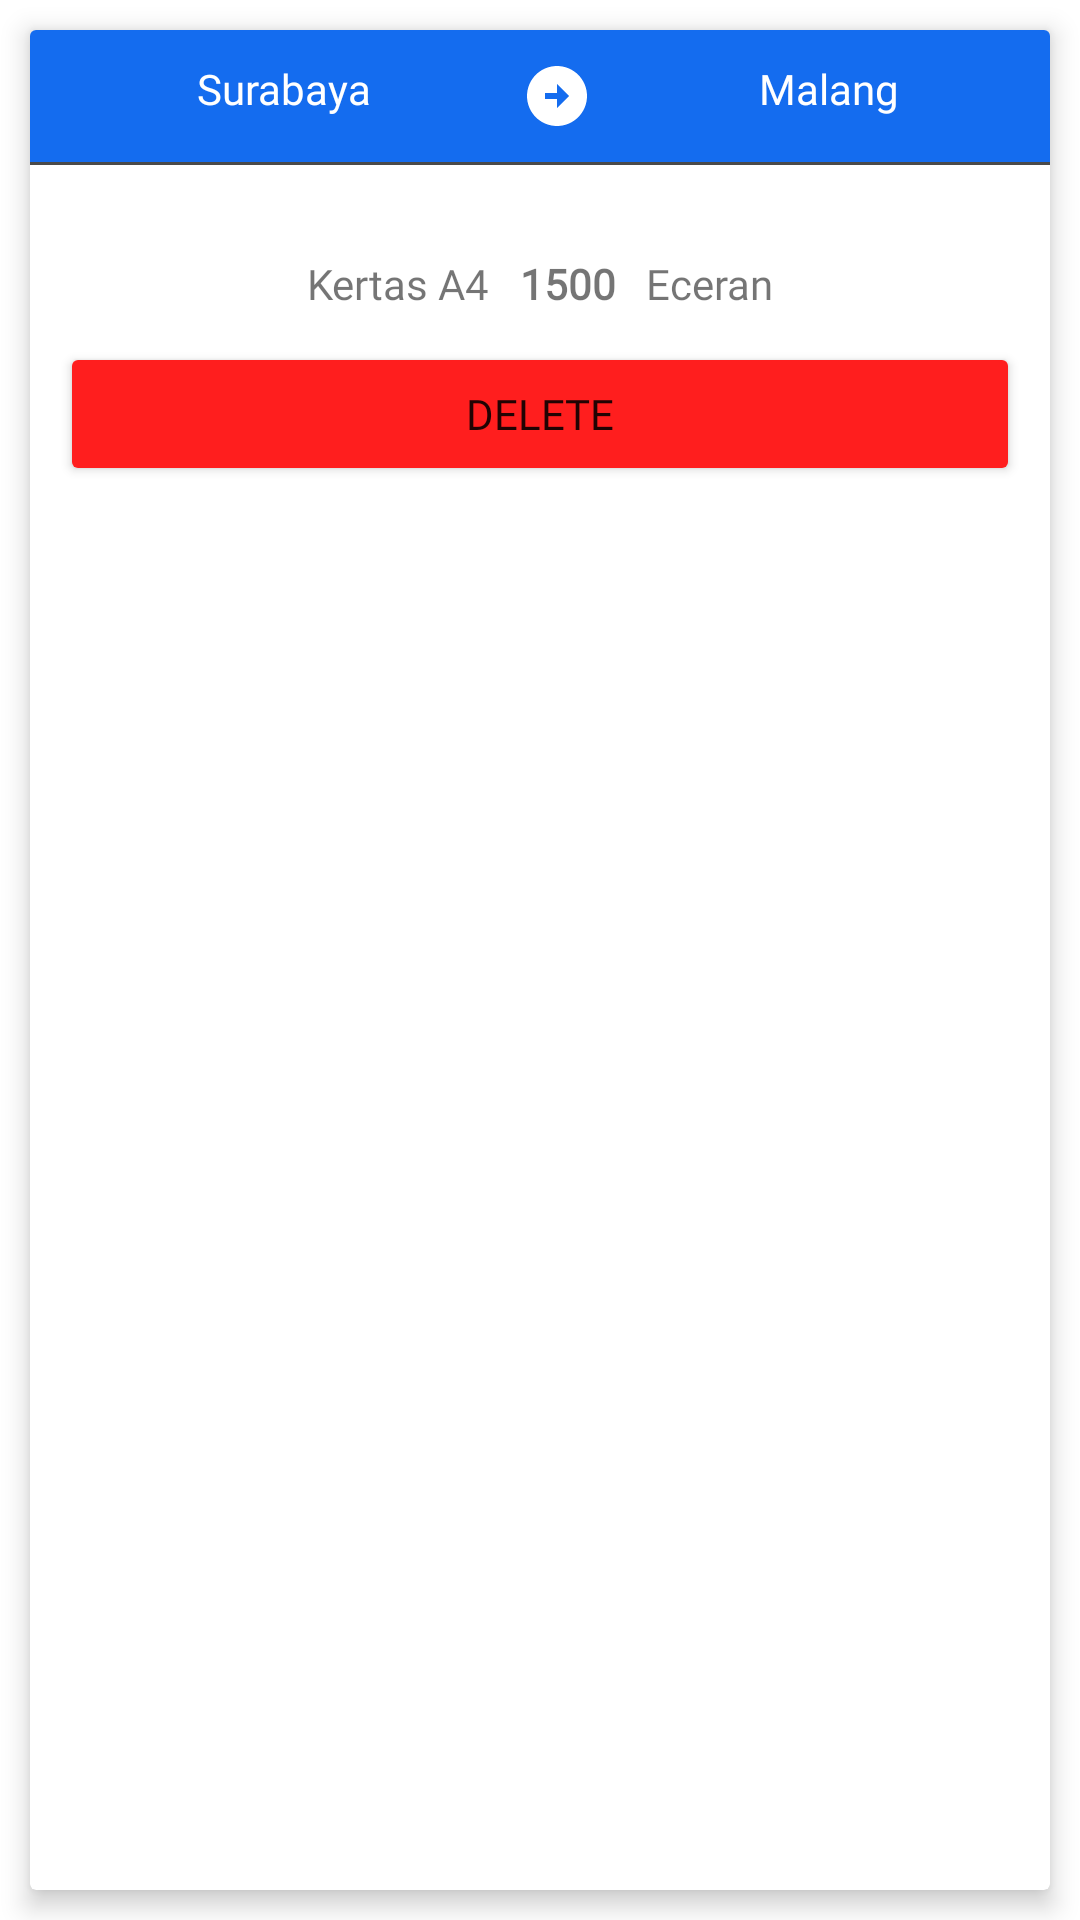

Named icons in this screenshot (1080 x 1920) and their centers, point (x, y):
arrow circle right: point (557, 96)
